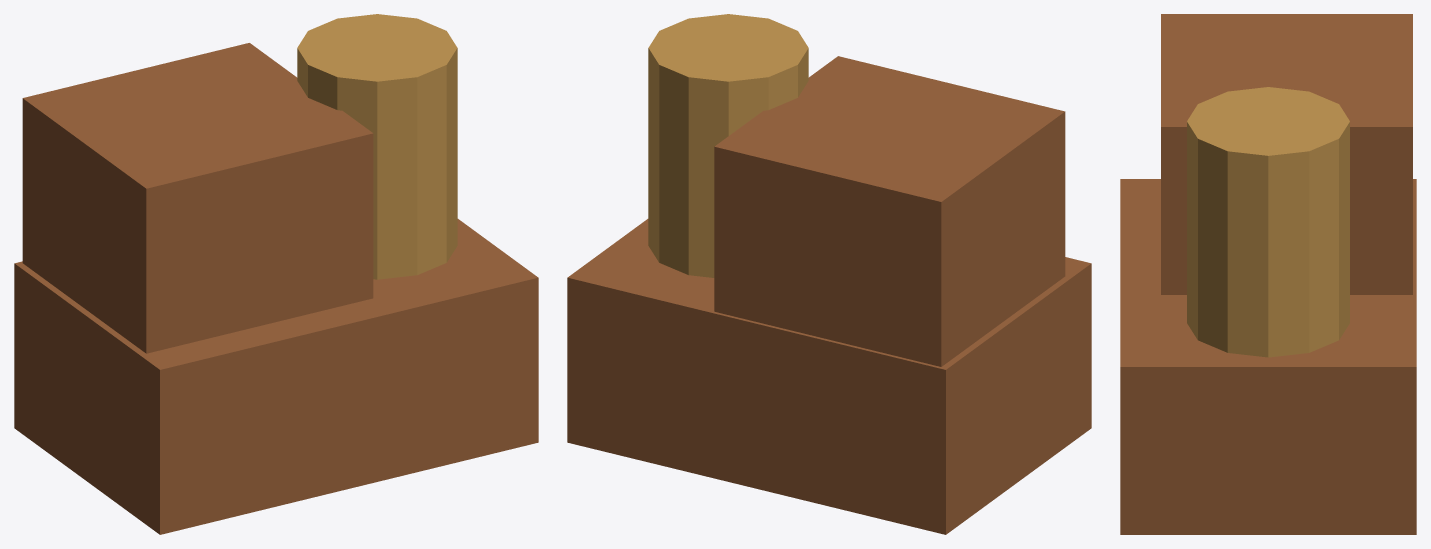
File: supply_stack.glb
The picture shows the model from 3 angles, left to right: view 1: azimuth 30°, elevation 25°; view 2: azimuth 150°, elevation 25°; view 3: azimuth 270°, elevation 25°; orthographic projection.
Parts seen in each view (by area): view 1: LowerCrate, UpperCrate, OilBarrel; view 2: LowerCrate, UpperCrate, OilBarrel; view 3: LowerCrate, OilBarrel, UpperCrate.
Part boxes in pixels (left/top/right/bottom): LowerCrate: left=14, top=219, right=538, bottom=534; UpperCrate: left=22, top=43, right=373, bottom=353; OilBarrel: left=297, top=14, right=457, bottom=279; LowerCrate: left=567, top=219, right=1091, bottom=534; UpperCrate: left=714, top=56, right=1065, bottom=366; OilBarrel: left=648, top=14, right=808, bottom=277; LowerCrate: left=1120, top=179, right=1416, bottom=534; OilBarrel: left=1187, top=87, right=1349, bottom=357; UpperCrate: left=1161, top=14, right=1412, bottom=294.
Size of the model in its own units: 1.2 by 1.1 by 0.8.
